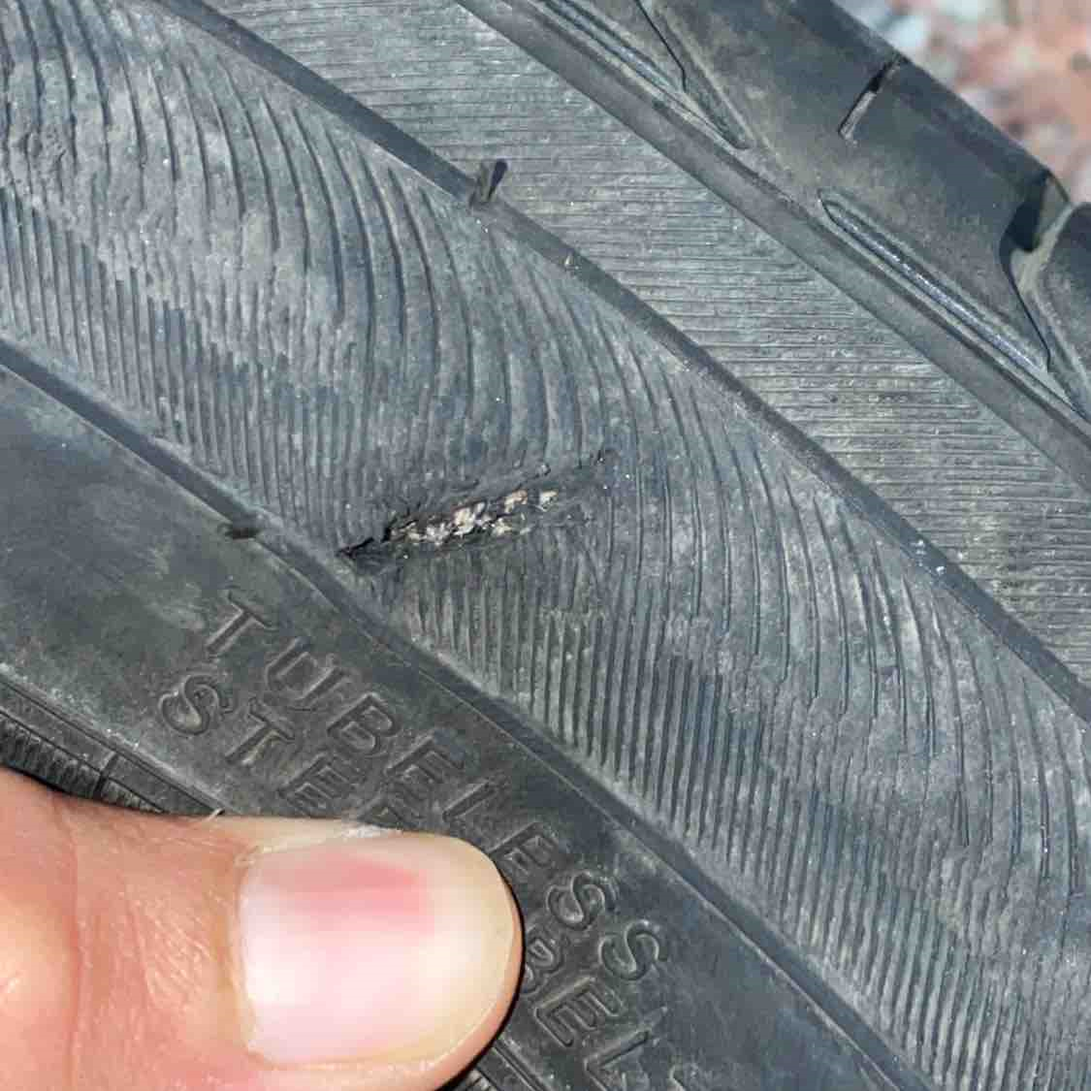cut: (318, 466, 599, 583)
